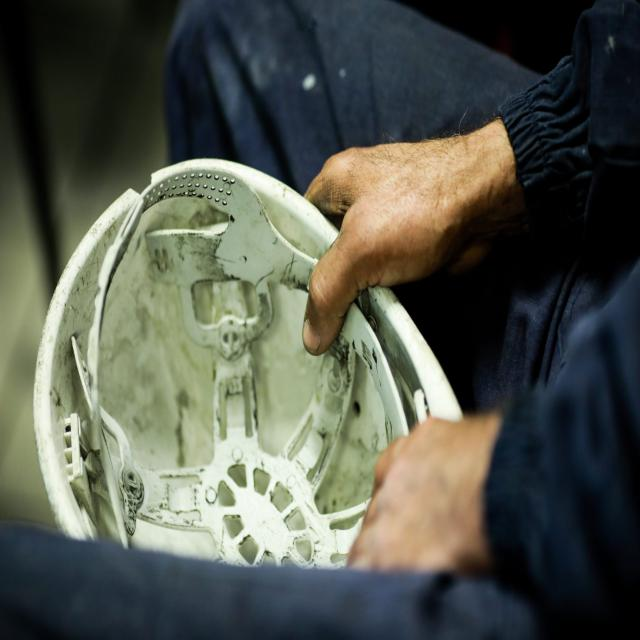helmet: (25, 140, 469, 590)
